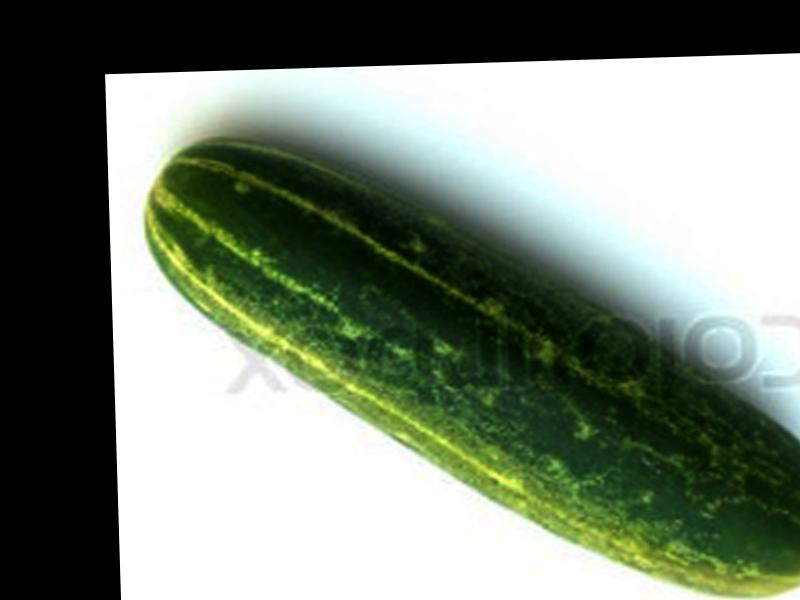Cucumber: (138, 123, 800, 600)
